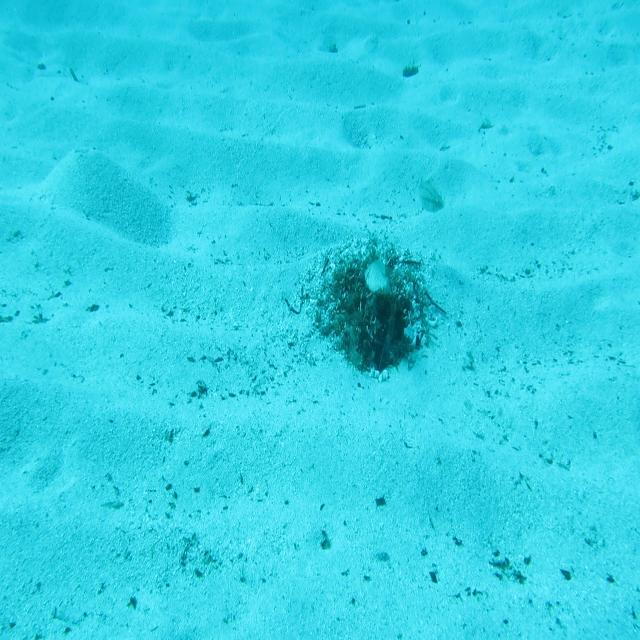ROLL: (360, 250, 404, 304)
female: (412, 172, 452, 218)
nest: (318, 232, 441, 373)
